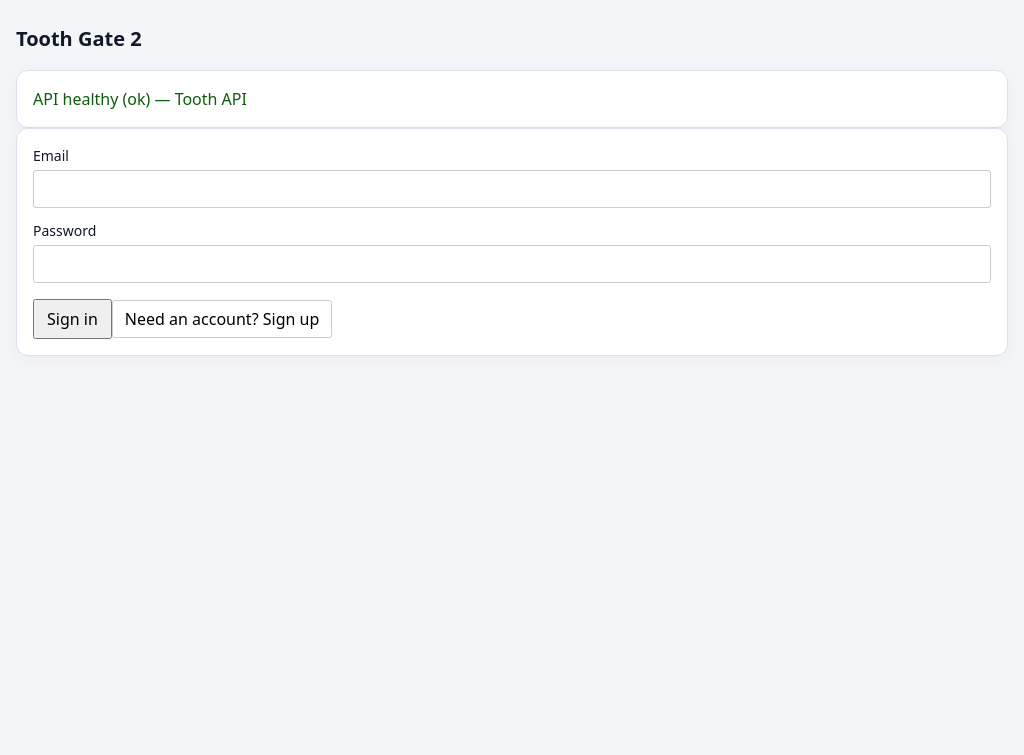
Gate 2 shell › loads session and shows user email after login
Expected: the text "API healthy (ok) — Tooth API" is shown, [33,88,247,110]
Type "alice@example.com" into the field labelled "Email" at {"x": 512, "y": 189}, box [33,170,991,208]
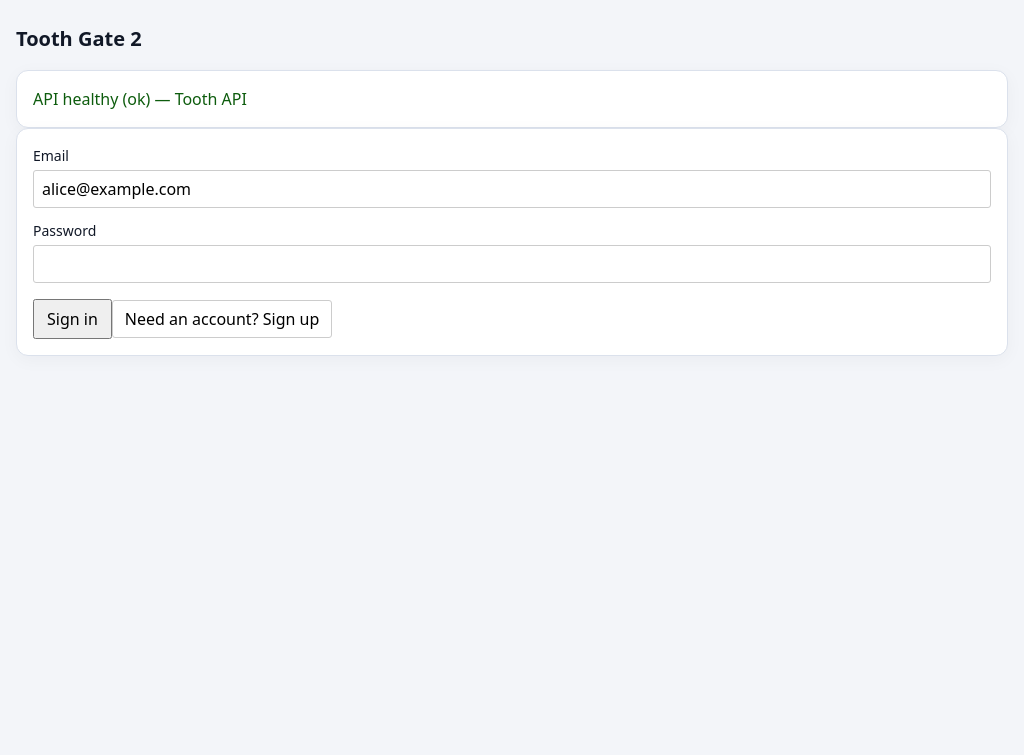
Type "password12" into the password field labelled "Password" at {"x": 512, "y": 264}, box [33,245,991,283]
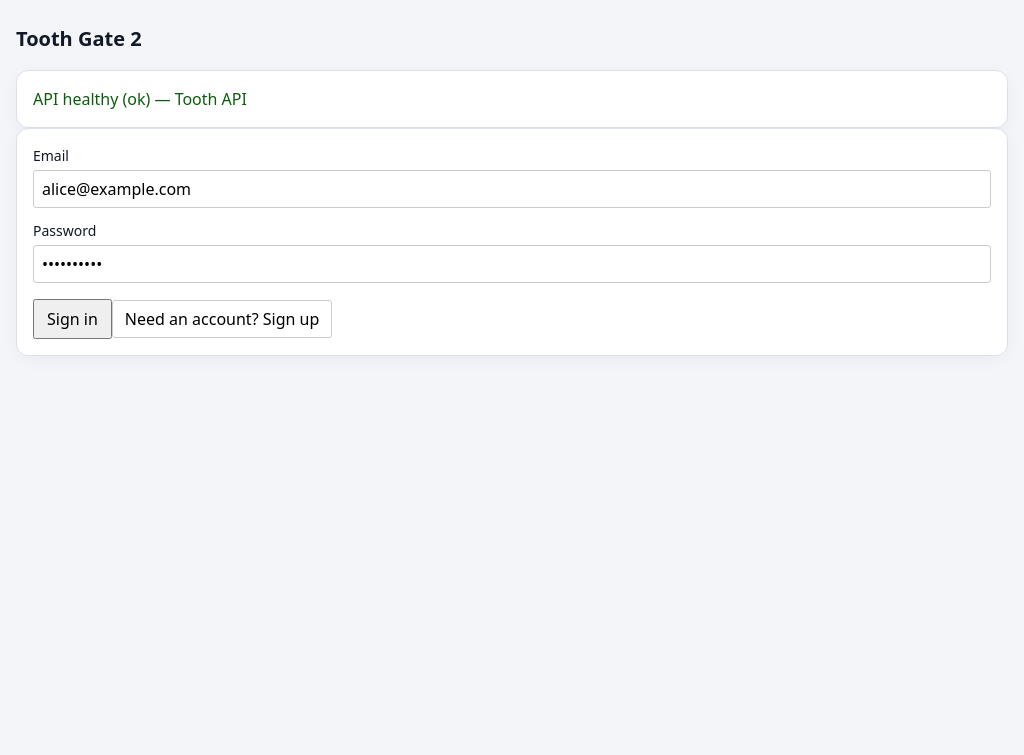
Click the button "Sign in" at {"x": 72, "y": 319}, box [33,299,112,339]
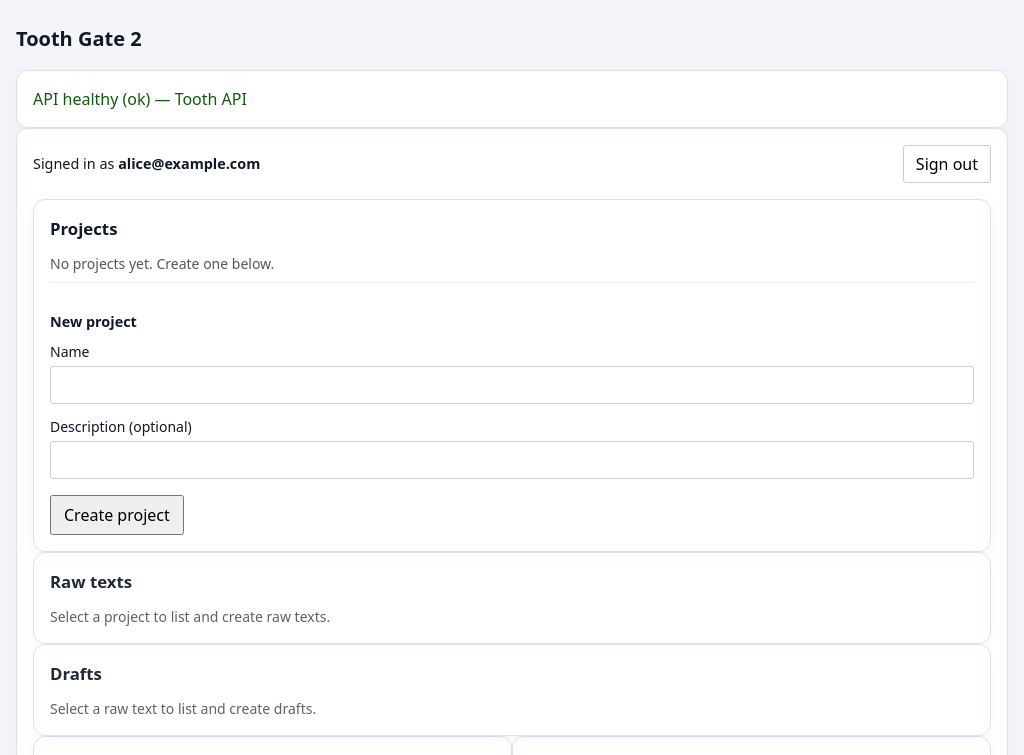
Now the text "alice@example.com" is shown, box [118,154,260,173]
